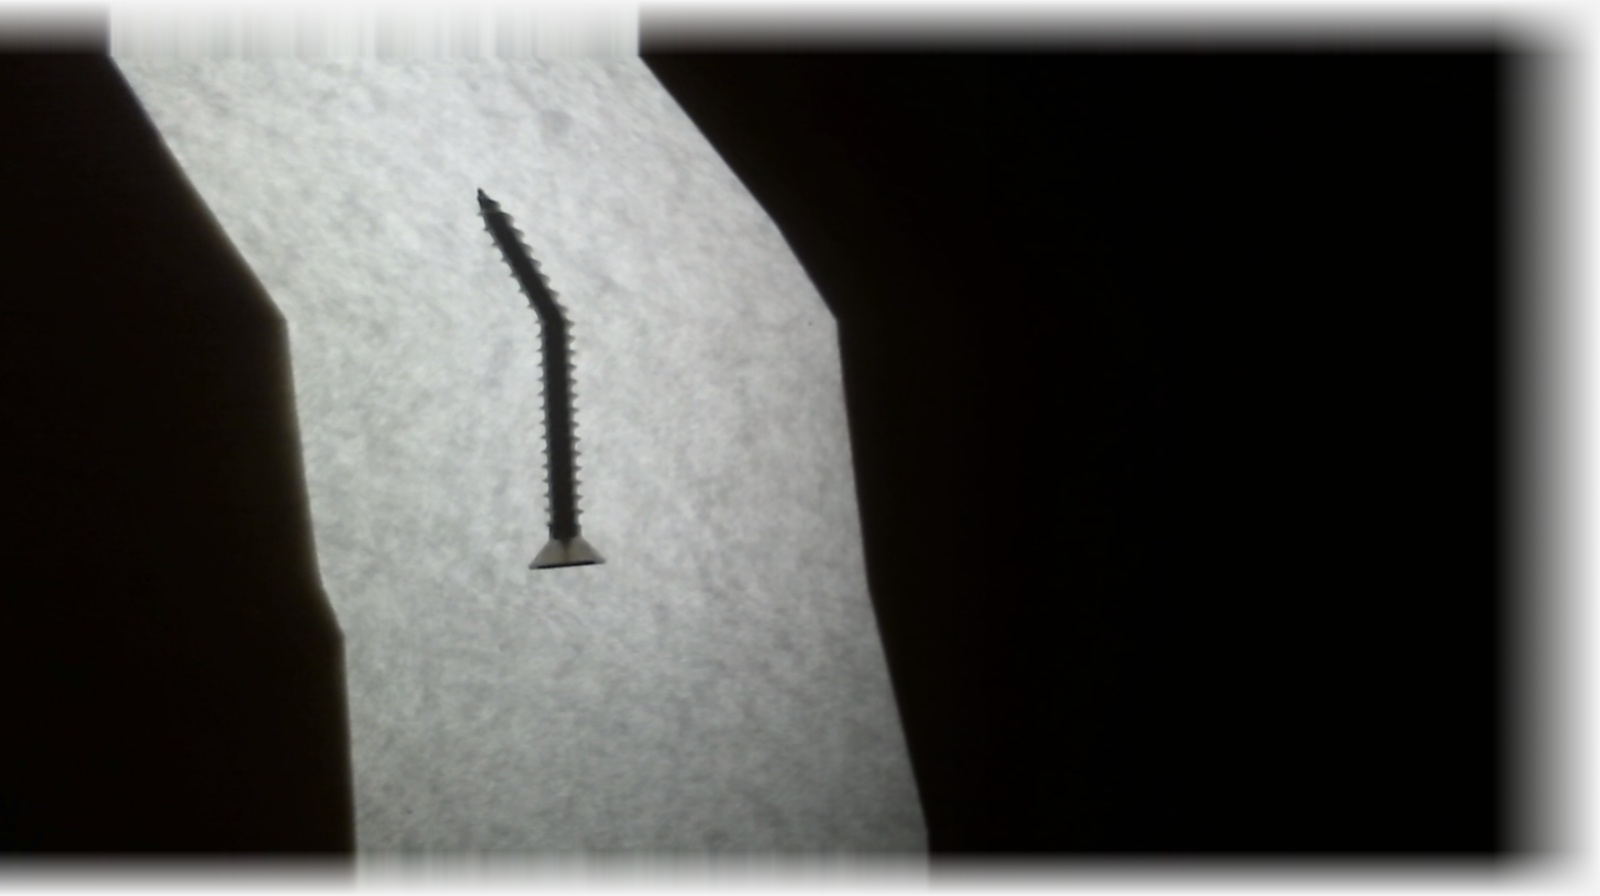S002: (443, 185, 620, 594)
